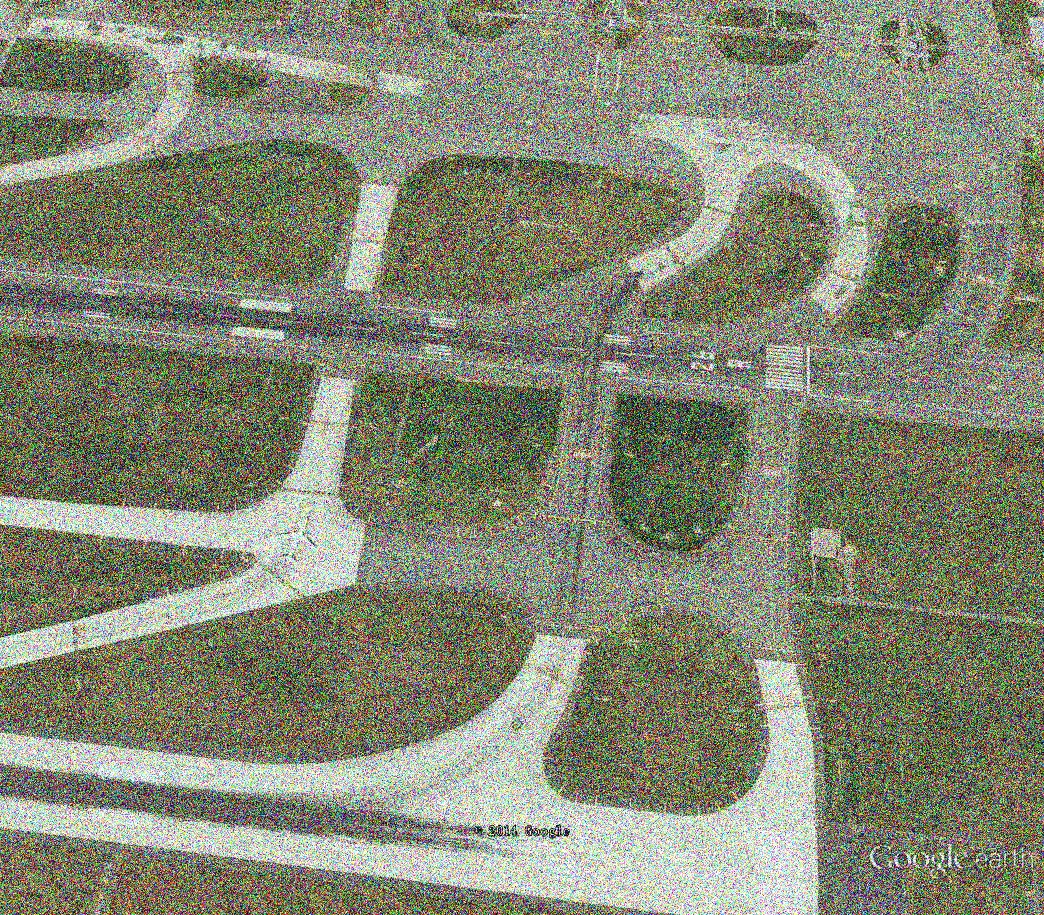aircraft: (274, 516, 319, 568)
